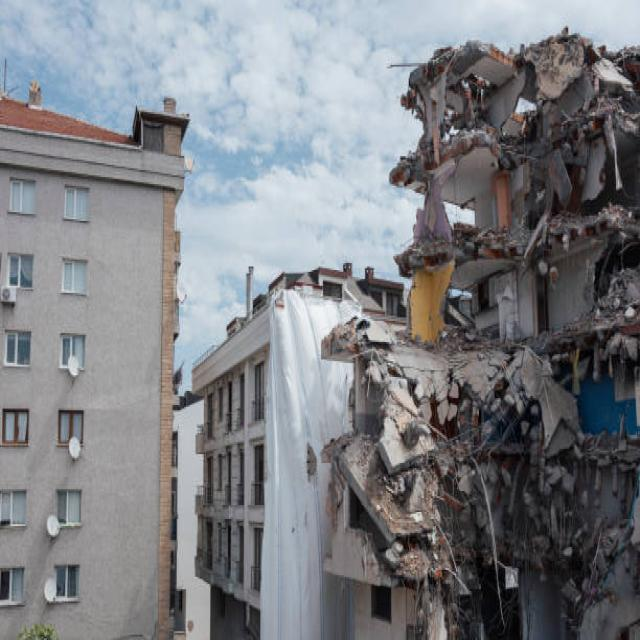Destroyed_building: (176, 0, 640, 638)
